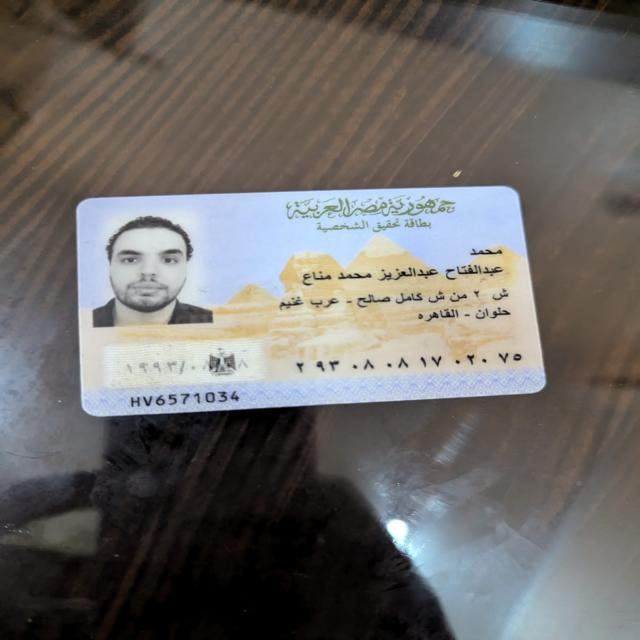id_card: (71, 177, 560, 428)
